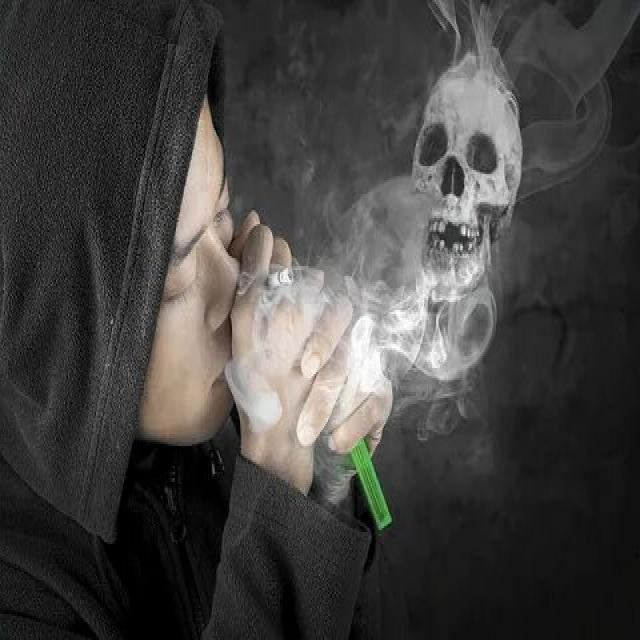smoke: (257, 262, 296, 294)
